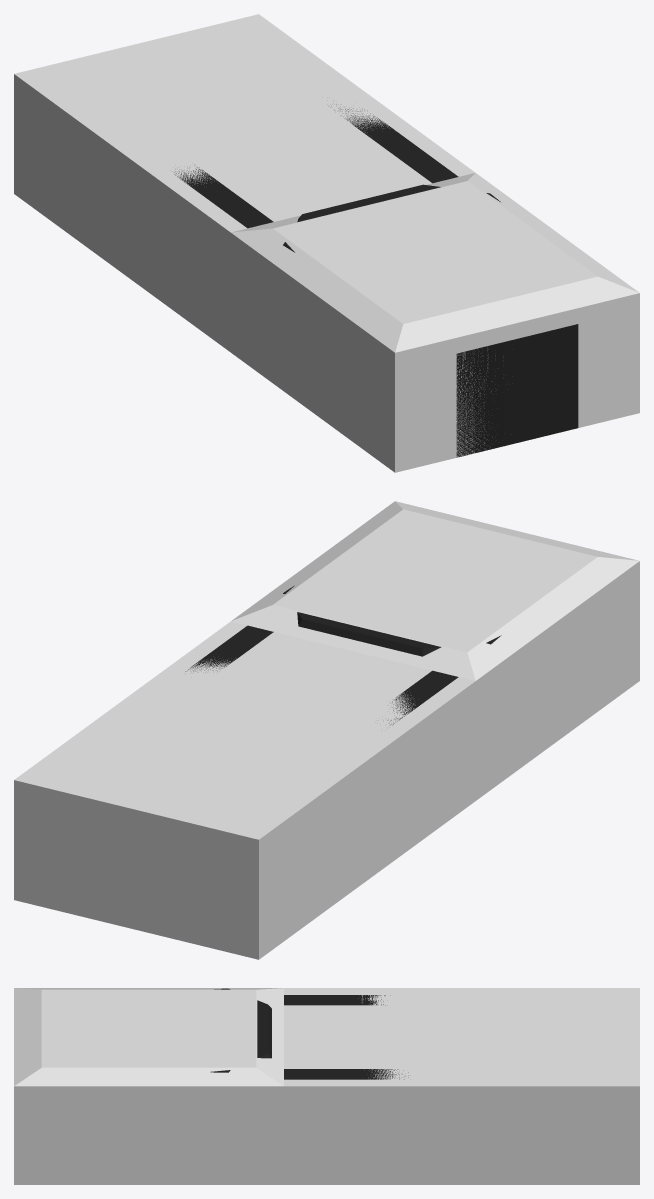
The model's file is Arena_Platform_SectionDivider.fbx.
3 views of the same model, one above another, from view 1: azimuth 30°, elevation 25°; view 2: azimuth 150°, elevation 25°; view 3: azimuth 270°, elevation 25° (orthographic). The views are drawn at different scales.
Parts seen in each view (by area): view 1: Arena_Platform_SectionDivider_Col, Arena_Platform_SectionDivider; view 2: Arena_Platform_SectionDivider_Col, Arena_Platform_SectionDivider; view 3: Arena_Platform_SectionDivider_Col, Arena_Platform_SectionDivider.
Part boxes in pixels (box(x1,y1,x2,y2)): Arena_Platform_SectionDivider_Col: box(14, 14, 639, 472); Arena_Platform_SectionDivider: box(174, 104, 578, 457); Arena_Platform_SectionDivider_Col: box(14, 501, 639, 959); Arena_Platform_SectionDivider: box(185, 585, 501, 725); Arena_Platform_SectionDivider_Col: box(14, 988, 639, 1184); Arena_Platform_SectionDivider: box(210, 988, 408, 1079).
Bounding box in the file's own units: 158 × 80.17 × 425.
